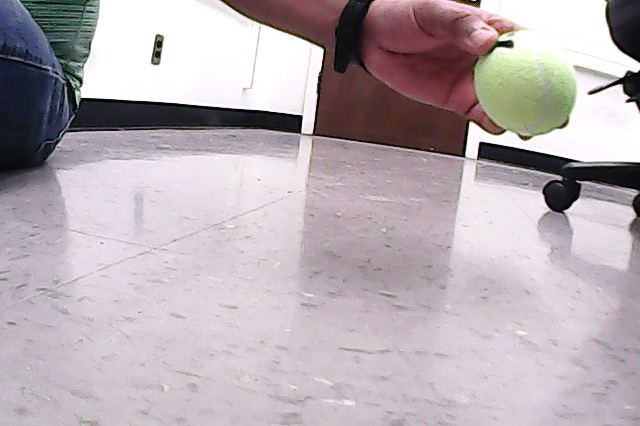ball: (475, 29, 577, 136)
